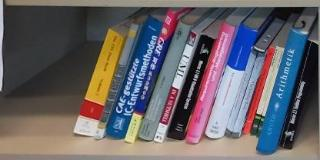book-spine: (105, 14, 164, 140), (255, 27, 308, 157), (125, 9, 175, 144), (137, 20, 192, 142), (203, 23, 259, 141), (185, 22, 235, 145), (73, 27, 125, 138), (95, 21, 141, 141), (167, 34, 216, 143), (153, 30, 197, 143), (279, 40, 320, 151), (224, 49, 267, 141), (242, 46, 276, 135), (250, 46, 282, 136), (256, 48, 285, 138)
